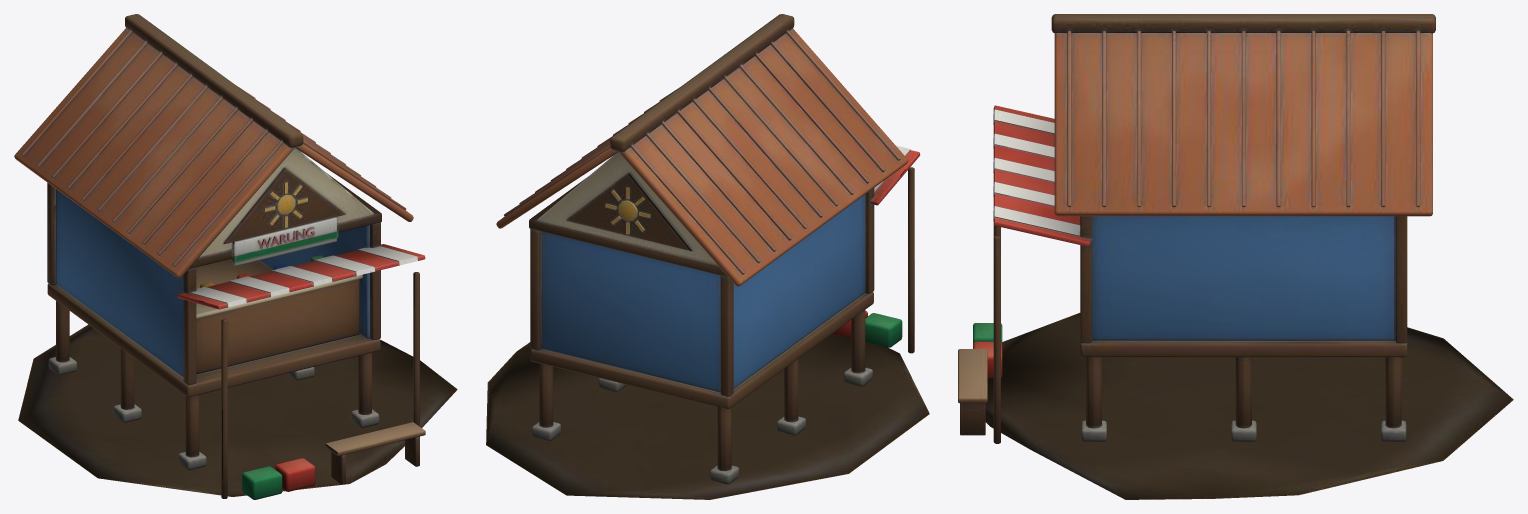
Rendered from aceh_house_c.glb.
3 views of the same model, side by side, from view 1: azimuth 30°, elevation 25°; view 2: azimuth 150°, elevation 25°; view 3: azimuth 270°, elevation 25° (orthographic). The views are drawn at different scales.
Parts seen in each view (by area): view 1: aceh_house_c; view 2: aceh_house_c; view 3: aceh_house_c.
Boxes of the visible parts, bbox=[...] form: aceh_house_c: bbox=[14, 14, 457, 499]; aceh_house_c: bbox=[486, 14, 929, 499]; aceh_house_c: bbox=[958, 14, 1513, 499].
Size of the model in its own units: 4.9 by 4.2 by 5.64.
1 material, 1 textured.
